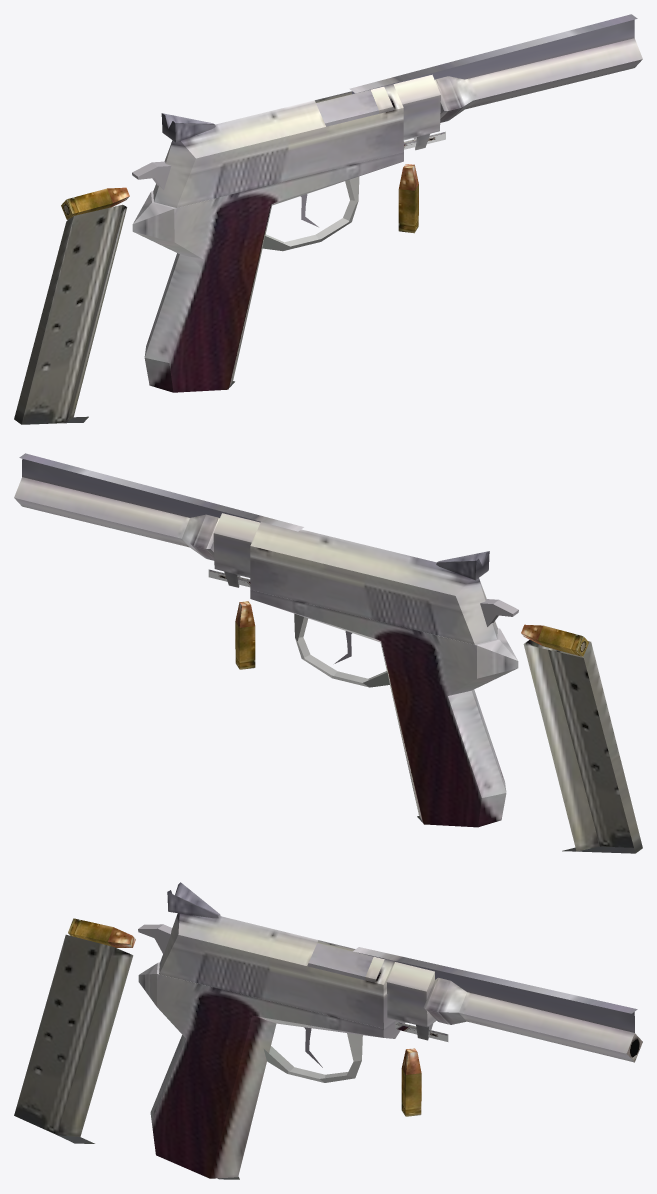
The model's file is HighCalibler.obj.
3 views of the same model, one above another, from view 1: azimuth 30°, elevation 25°; view 2: azimuth 150°, elevation 25°; view 3: azimuth 330°, elevation 25° (orthographic).
Visible parts, largest first — view 1: HCBody, HCSlide, HCMagFull, HighCaliberBullet, HC_Trigger&Hammer; view 2: HCBody, HCSlide, HCMagFull, HighCaliberBullet, HC_Trigger&Hammer; view 3: HCBody, HCSlide, HCMagFull, HighCaliberBullet, HC_Trigger&Hammer.
Part boxes in pixels (<box>): HCBody: <box>132,14,642,392</box>; HCSlide: <box>153,83,403,207</box>; HCMagFull: <box>14,187,129,424</box>; HighCaliberBullet: <box>398,164,418,233</box>; HC_Trigger&Hammer: <box>132,161,318,227</box>; HCBody: <box>14,453,518,827</box>; HCSlide: <box>250,522,497,644</box>; HCMagFull: <box>521,624,642,853</box>; HighCaliberBullet: <box>235,601,255,669</box>; HC_Trigger&Hammer: <box>334,599,518,663</box>; HCBody: <box>138,943,642,1178</box>; HCSlide: <box>159,882,396,1029</box>; HCMagFull: <box>14,918,135,1143</box>; HighCaliberBullet: <box>401,1048,421,1116</box>; HC_Trigger&Hammer: <box>138,924,322,1067</box>.
Size of the model in its own units: 4.01 by 1.73 by 0.2857.
